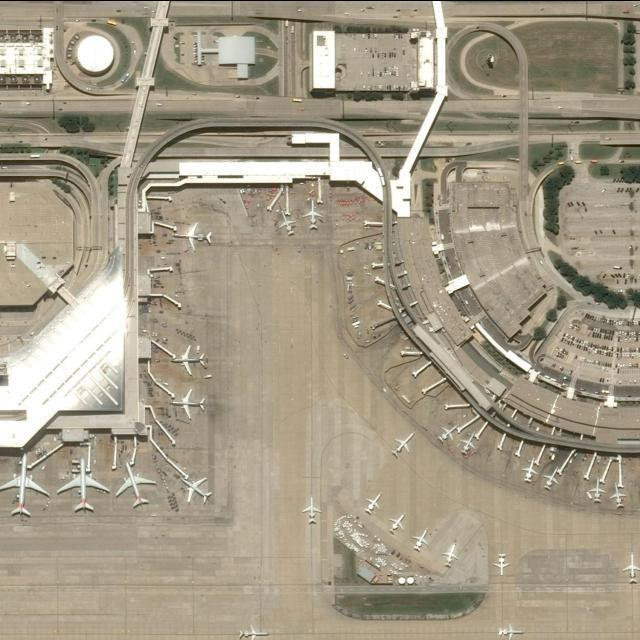Aircraft: (1, 451, 55, 526), (55, 456, 114, 520), (116, 461, 158, 511), (169, 342, 213, 378), (172, 221, 218, 255), (180, 472, 218, 512), (170, 387, 209, 419), (301, 198, 327, 233), (392, 429, 420, 459), (276, 208, 303, 238), (303, 496, 327, 528), (519, 456, 542, 488), (587, 476, 609, 508), (621, 552, 640, 588), (609, 481, 631, 511), (459, 431, 482, 459), (437, 421, 463, 445), (542, 466, 564, 494), (237, 624, 274, 640), (492, 550, 513, 578), (443, 543, 463, 571), (412, 528, 434, 553), (364, 491, 384, 518), (497, 624, 528, 640), (391, 512, 407, 534)
